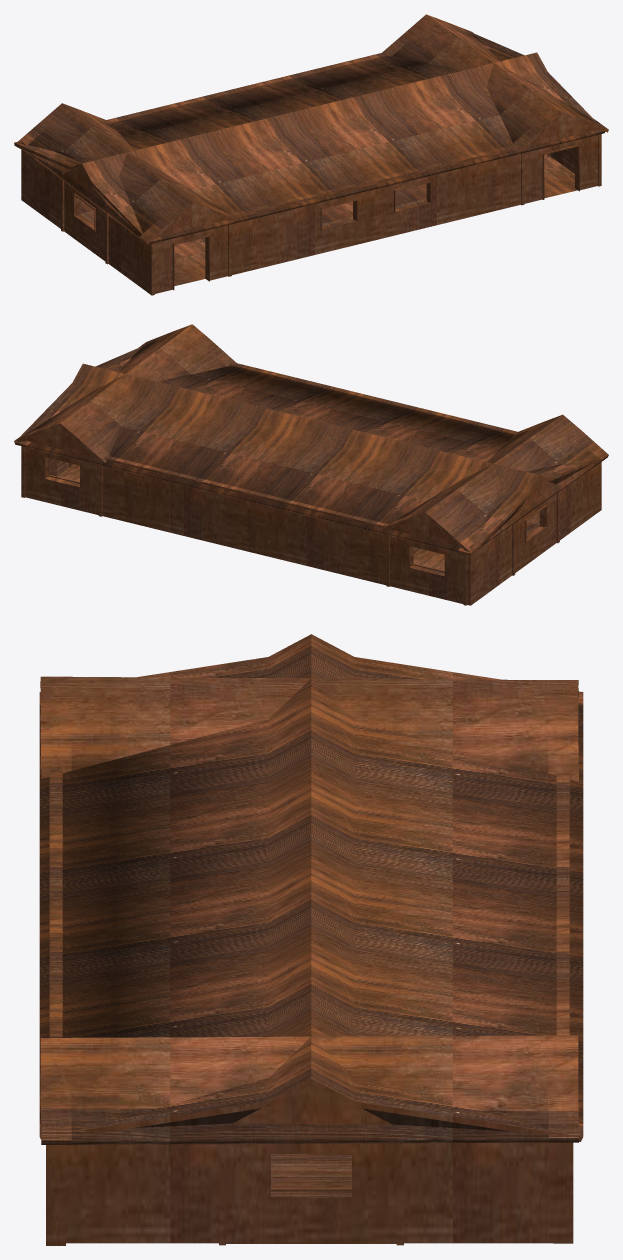
The model's file is cabin_Large.fbx.
The picture shows the model from 3 angles, top to bottom: view 1: azimuth 30°, elevation 25°; view 2: azimuth 150°, elevation 25°; view 3: azimuth 270°, elevation 25°; orthographic projection. The views are drawn at different scales.
Visible parts, largest first — view 1: CabinWallPanel.003; view 2: CabinWallPanel.003; view 3: CabinWallPanel.003.
Part boxes in pixels (x1,y1,x2,y2): CabinWallPanel.003: [14, 14, 608, 295]; CabinWallPanel.003: [14, 324, 608, 605]; CabinWallPanel.003: [39, 634, 583, 1245].
Size of the model in its own units: 7994 by 1397 by 4074.
